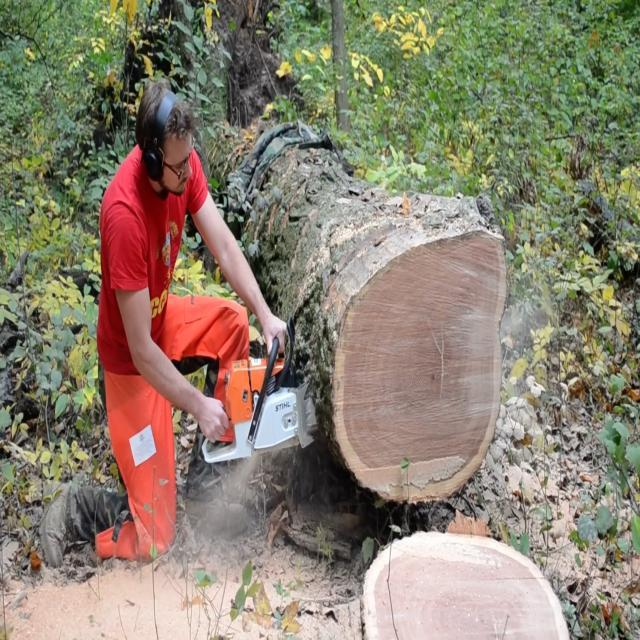Chainsaw: (186, 326, 336, 462)
